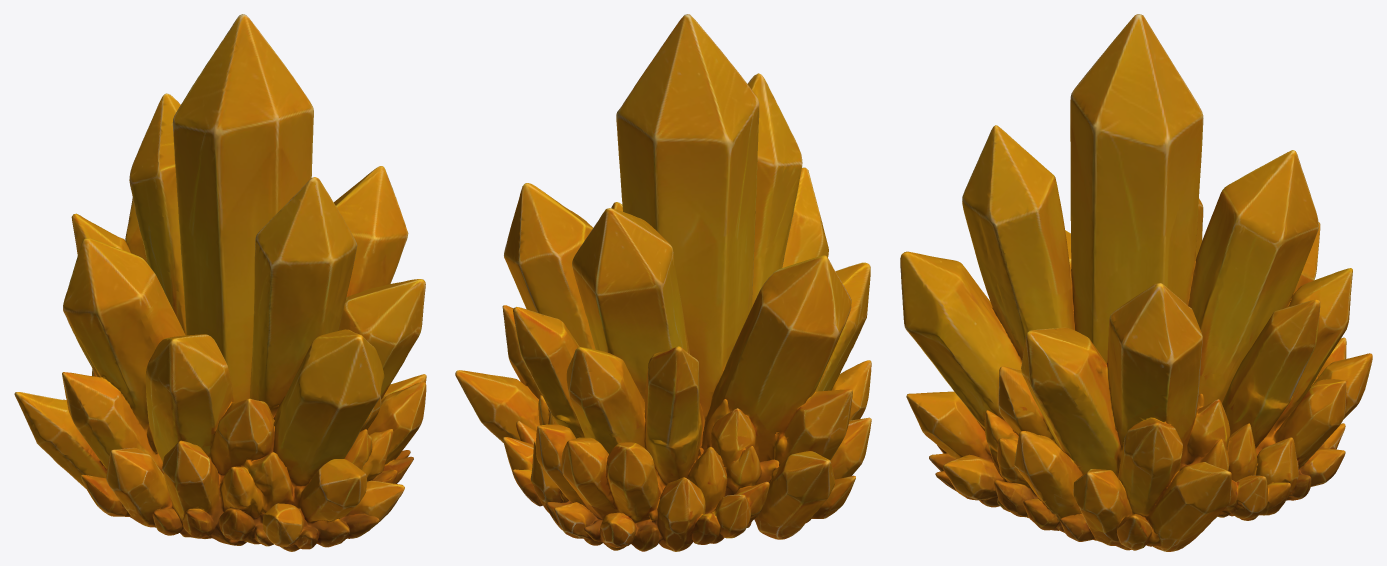
The model's file is Minerais 1 .glb.
3 renders of one model, left to right at view 1: azimuth 30°, elevation 25°; view 2: azimuth 150°, elevation 25°; view 3: azimuth 270°, elevation 25°, orthographic.
Parts seen in each view (by area): view 1: tripo_node_16d2f058-bc47-495d-88cd-33819f5366ef; view 2: tripo_node_16d2f058-bc47-495d-88cd-33819f5366ef; view 3: tripo_node_16d2f058-bc47-495d-88cd-33819f5366ef.
Boxes of the visible parts, left/top/right/bottom form: tripo_node_16d2f058-bc47-495d-88cd-33819f5366ef: left=14, top=14, right=426, bottom=551; tripo_node_16d2f058-bc47-495d-88cd-33819f5366ef: left=455, top=14, right=871, bottom=551; tripo_node_16d2f058-bc47-495d-88cd-33819f5366ef: left=900, top=14, right=1372, bottom=551.
Size of the model in its own units: 0.7727 by 0.9997 by 0.8508.
1 material, 1 textured.
